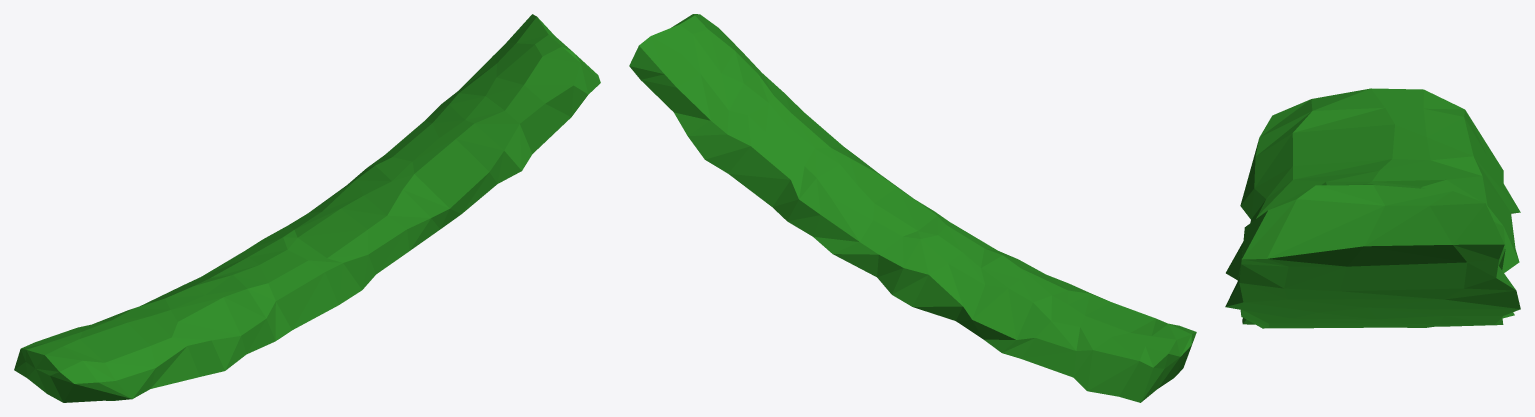
The model's file is o_decal_largecurve0.FBX.
The picture shows the model from 3 angles, left to right: view 1: azimuth 30°, elevation 25°; view 2: azimuth 150°, elevation 25°; view 3: azimuth 270°, elevation 25°; orthographic projection. The views are drawn at different scales.
Visible parts, largest first — view 1: O_GrassCurve_Large0; view 2: O_GrassCurve_Large0; view 3: O_GrassCurve_Large0.
Part boxes in pixels (x1,y1,x2,y2): O_GrassCurve_Large0: (14,14,600,402); O_GrassCurve_Large0: (629,14,1196,402); O_GrassCurve_Large0: (1225,88,1520,328).
Size of the model in its own units: 744 by 318 by 181.
